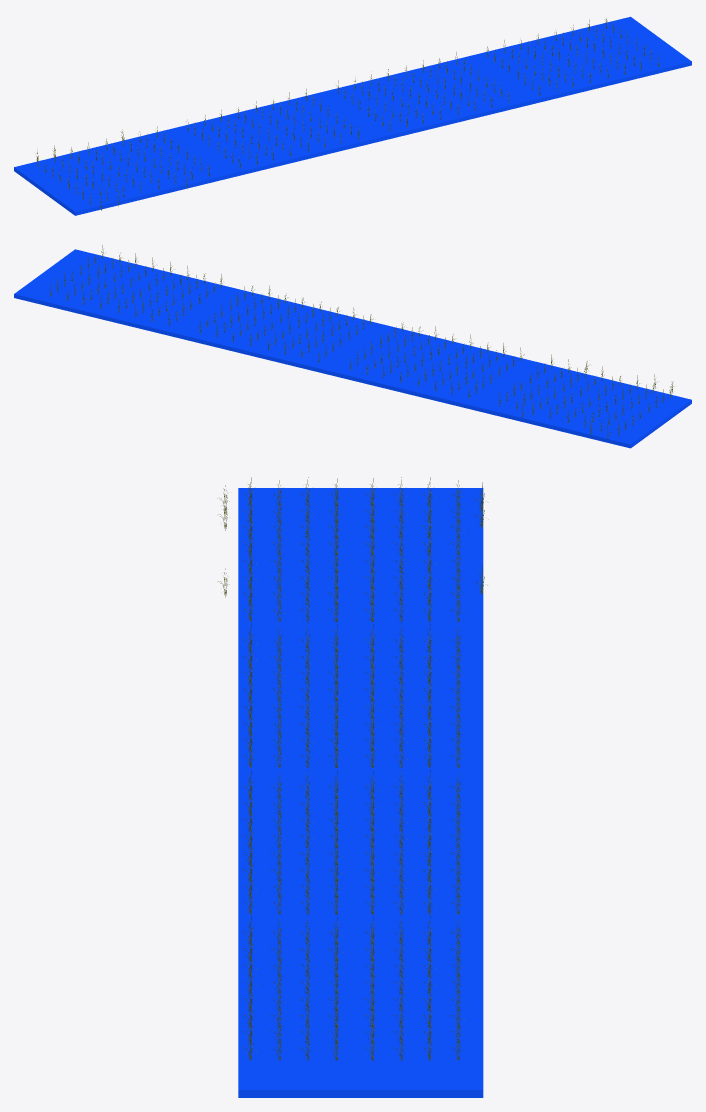
3 views of the same model, one above another, from view 1: azimuth 30°, elevation 25°; view 2: azimuth 150°, elevation 25°; view 3: azimuth 270°, elevation 25° (orthographic). The views are drawn at different scales.
Visible parts, largest first — view 1: 立方体.022; view 2: 立方体.022; view 3: 立方体.022.
Boxes of the visible parts, x1=… form: 立方体.022: x1=14, y1=16, x2=691, y2=215; 立方体.022: x1=14, y1=249, x2=691, y2=448; 立方体.022: x1=238, y1=488, x2=483, y2=1097.
Size of the model in its own units: 37.19 by 1.06 by 7.09.
Materials: 4 (3 with a texture image).
